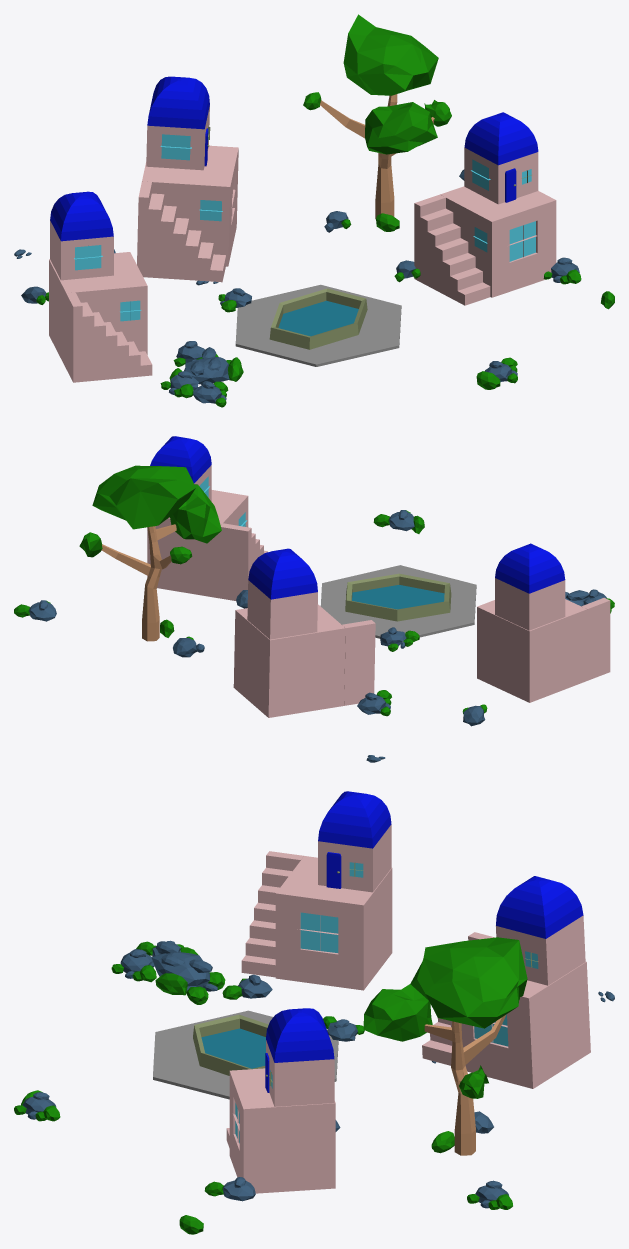
File: Maisons.fbx
The picture shows the model from 3 angles, top to bottom: view 1: azimuth 30°, elevation 25°; view 2: azimuth 150°, elevation 25°; view 3: azimuth 270°, elevation 25°; orthographic projection. The views are drawn at different scales.
Parts seen in each view (by area): view 1: Cylindre.003; view 2: Cylindre.003; view 3: Cylindre.003.
Boxes of the visible parts, x1=… form: Cylindre.003: x1=14, y1=14, x2=614, y2=407; Cylindre.003: x1=14, y1=436, x2=614, y2=762; Cylindre.003: x1=14, y1=791, x2=614, y2=1234.
Bounding box in the file's own units: 16.07 × 14.19 × 6.18.
